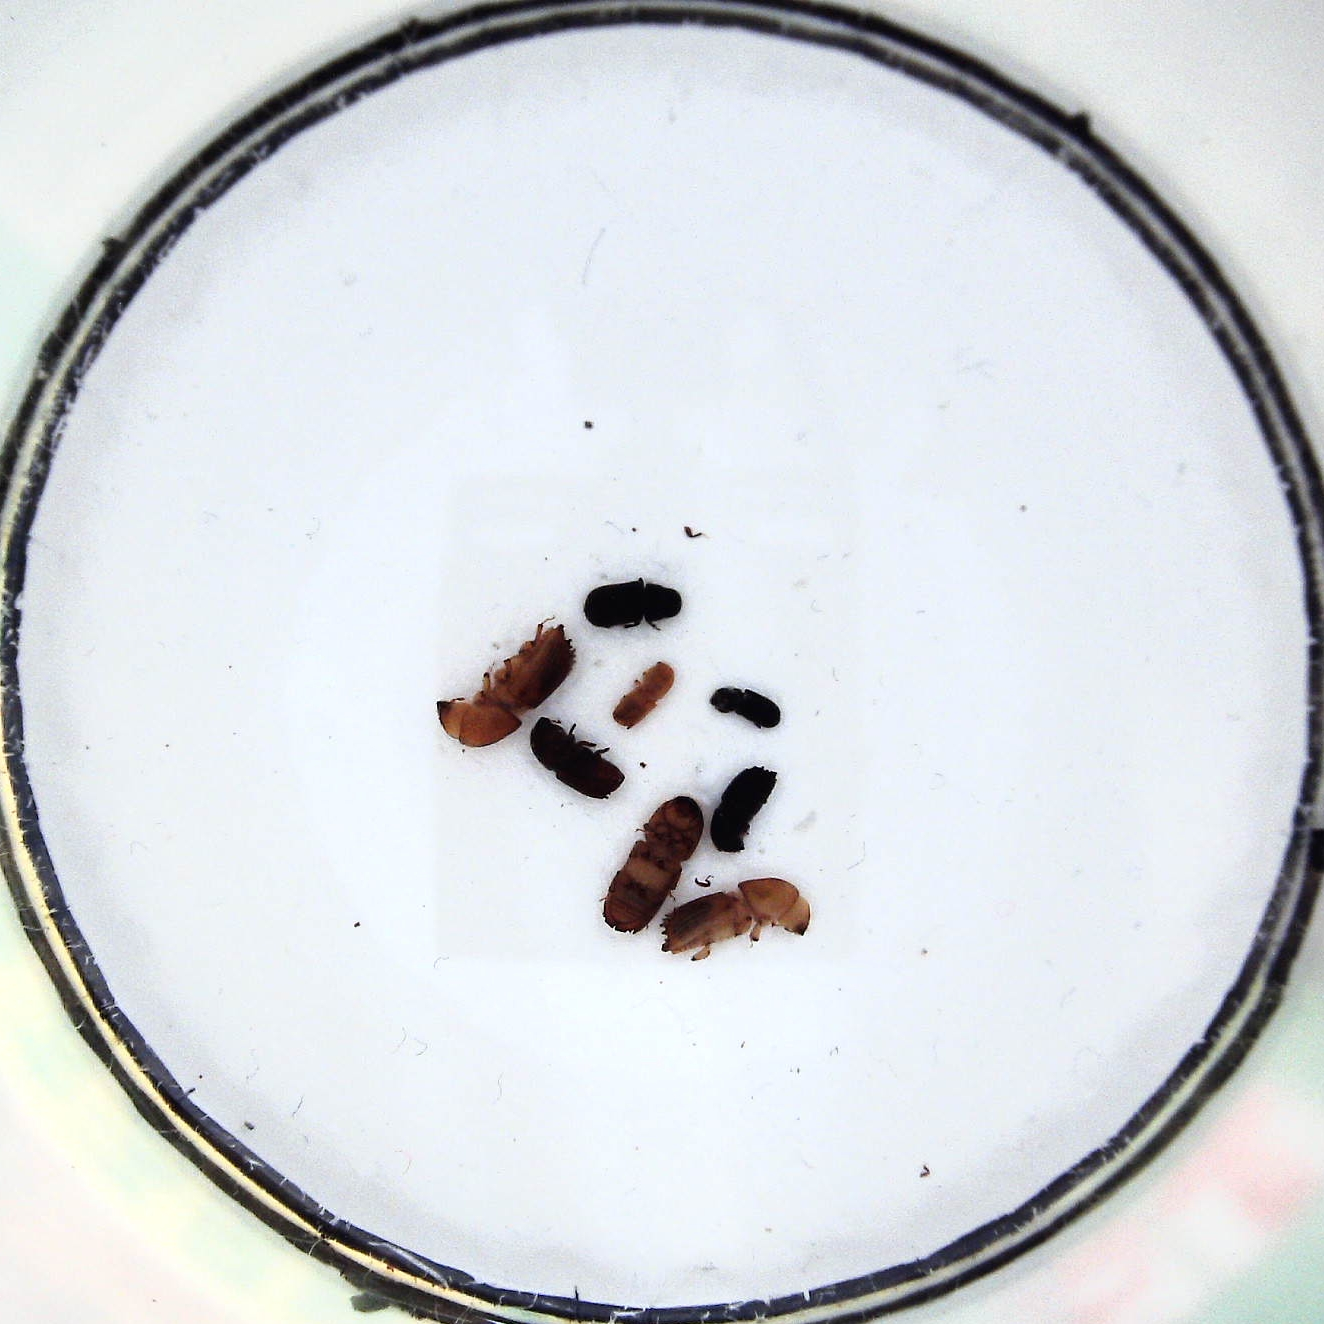Boerner: (435, 618, 576, 744), (603, 794, 704, 935), (661, 879, 812, 961)
Linnaeus: (529, 712, 626, 804), (706, 765, 778, 855)
acuminatus: (611, 661, 675, 730)
armandi: (581, 576, 685, 633)
coleoptera: (710, 683, 781, 734)
